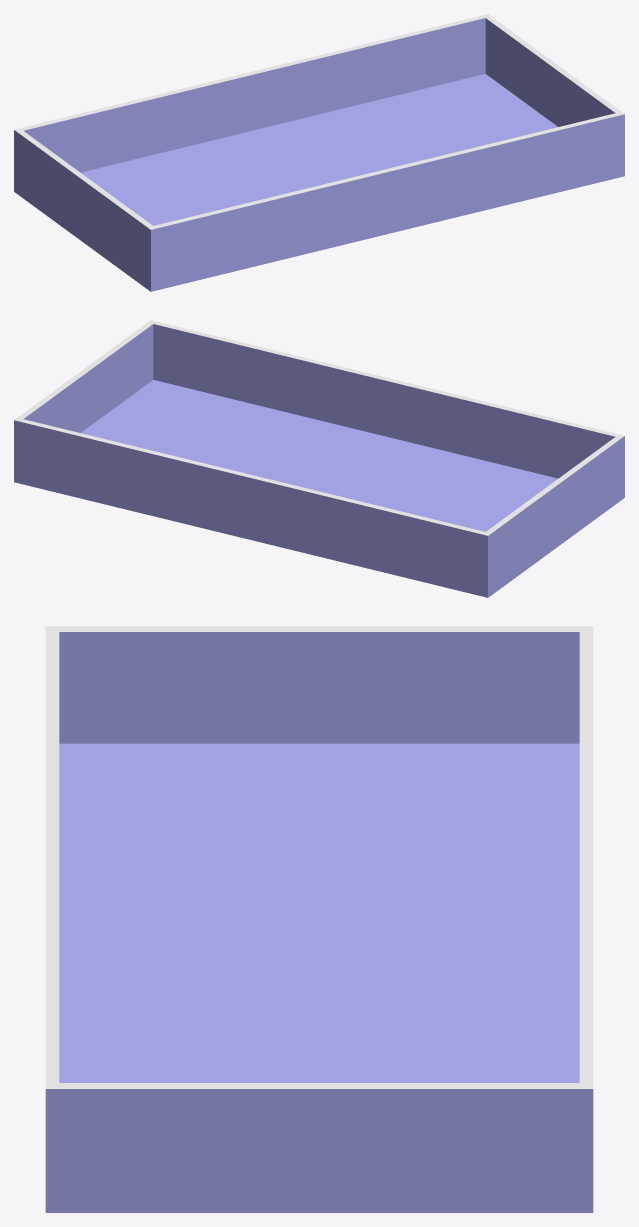
Rendered from tray tes.glb.
3 renders of one model, top to bottom at view 1: azimuth 30°, elevation 25°; view 2: azimuth 150°, elevation 25°; view 3: azimuth 270°, elevation 25°, orthographic. The views are drawn at different scales.
Visible parts, largest first — view 1: Cube; view 2: Cube; view 3: Cube.
Boxes of the visible parts, left/top/right/bottom form: Cube: left=14, top=14, right=624, bottom=291; Cube: left=14, top=320, right=624, bottom=597; Cube: left=45, top=626, right=593, bottom=1212.
Size of the model in its own units: 4 by 0.5 by 2.
